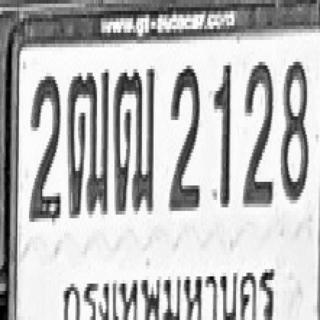A18: (66, 67, 108, 216), (113, 66, 155, 214)
N01: (212, 62, 231, 207)
N02: (168, 62, 200, 211), (29, 73, 61, 222), (242, 60, 274, 206)
N08: (280, 58, 308, 200)
P04: (62, 256, 278, 320)
